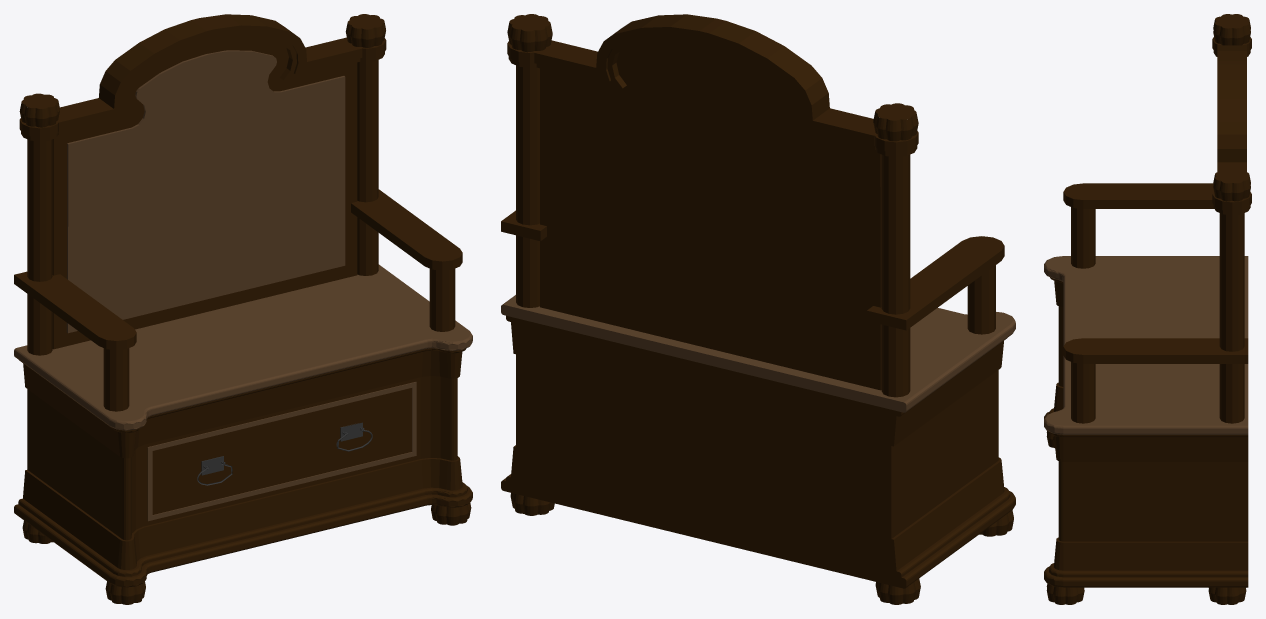
Rendered from chair-by-cmht-oculus-dvr1diKrxkz.glb.
3 renders of one model, left to right at view 1: azimuth 30°, elevation 25°; view 2: azimuth 150°, elevation 25°; view 3: azimuth 270°, elevation 25°, orthographic. The views are drawn at different scales.
Visible parts, largest first — view 1: Node; view 2: Node; view 3: Node.
Part boxes in pixels (x1=…): Node: x1=14, y1=14, x2=472, y2=604; Node: x1=501, y1=14, x2=1015, y2=604; Node: x1=1044, y1=14, x2=1251, y2=604.
Bounding box in the file's own units: 41 × 51 × 21.
